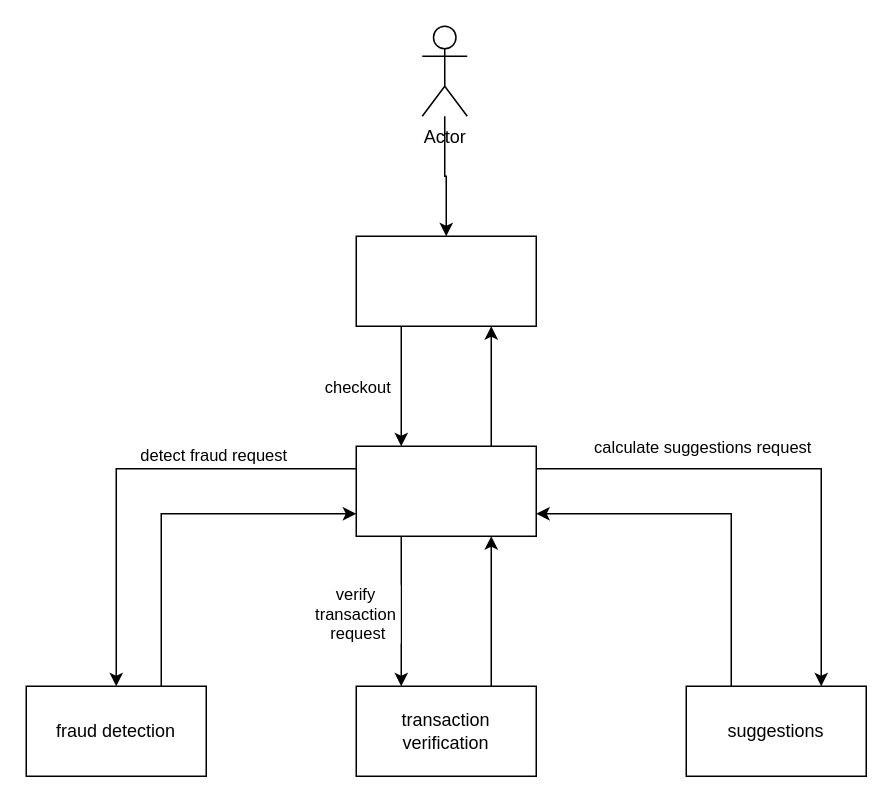
Some shapes in this 893 by 803 pixel diagram are drawn without their labels. The shapes that lost their labels are listed below. From the top down, each one's box as (x1, y1, x2, y2) in pixels, then its label:
(355, 235, 536, 326): frontend
(355, 445, 536, 536): orchestrator
